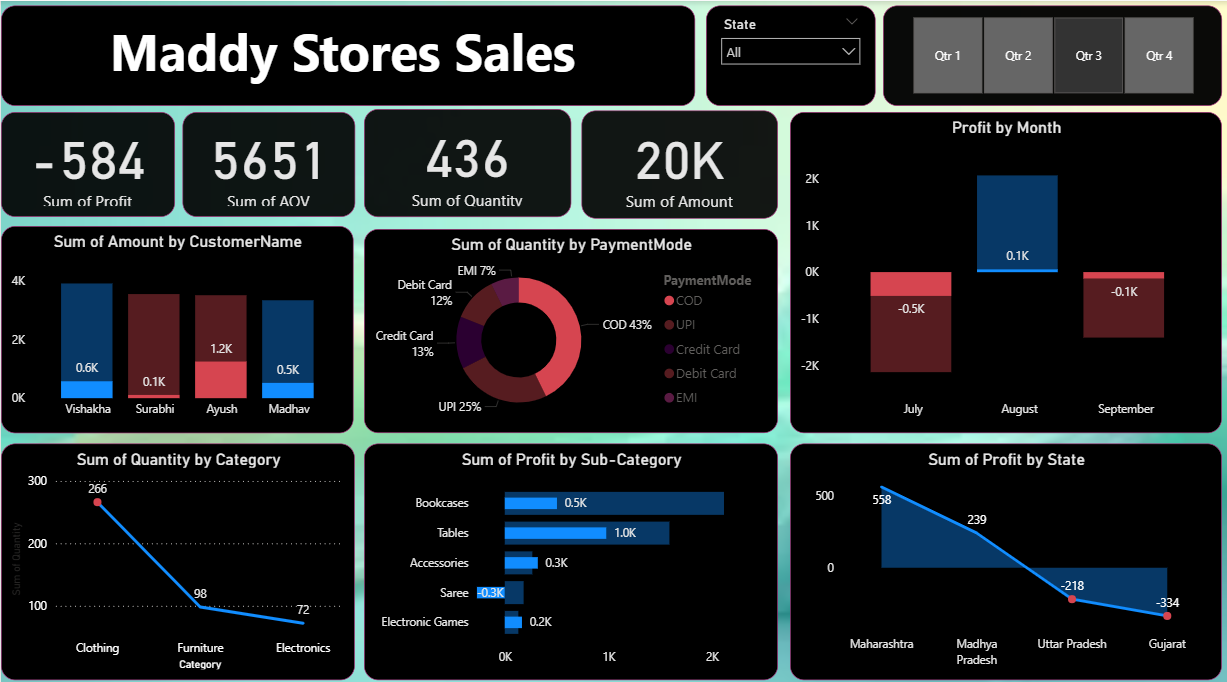

The dashboard page shown, as its layout file describes it:
{"tool":"powerbi","page":{"name":"Page 1","canvas":[1280,720],"ordinal":0},"visuals":[{"type":"textbox","box":[0,4.7,723.7,104.7],"z":0},{"type":"columnChart","title":"Profit by Month","fields":{"Y":["Details.Profit"],"Category":["Orders.Order Date.Variation.Date Hierarchy.Month"]},"box":[822.1,115.7,450.1,334.5],"z":1000},{"type":"barChart","fields":{"Category":["Details.Sub-Category"],"Y":["Details.Profit"]},"box":[378.2,461.1,431.4,247],"z":2000},{"type":"lineChart","fields":{"Category":["Details.Category"],"Y":["Details.Quantity"]},"box":[0,461.1,368.9,247],"z":3000},{"type":"donutChart","fields":{"Y":["Details.Quantity"],"Category":["Details.PaymentMode"]},"box":[378.2,237.6,431.4,212.6],"z":4000},{"type":"card","fields":{"Values":["Details.Amount"]},"box":[604.9,114.1,204.8,112.5],"z":5000},{"type":"card","fields":{"Values":["Details.Quantity"]},"box":[378.2,112.5,215.7,112.5],"z":6000},{"type":"card","fields":{"Values":["Details.Profit"]},"box":[0,115.7,181.3,109.4],"z":7000},{"type":"card","fields":{"Values":["Details.AOV"]},"box":[189.1,115.7,179.7,109.4],"z":8000},{"type":"areaChart","fields":{"Category":["Orders.State"],"Y":["Details.Profit"]},"box":[822.1,461.1,450.1,247],"z":9000},{"type":"columnChart","fields":{"Category":["Orders.CustomerName"],"Y":["Details.Amount"]},"box":[0,234.4,367.3,215.7],"z":10000},{"type":"slicer","fields":{"Values":["Orders.Order Date.Variation.Date Hierarchy.Quarter"]},"box":[919,4.7,353.2,104.7],"z":11000},{"type":"slicer","fields":{"Values":["Orders.State"]},"box":[734.6,4.7,176.6,104.7],"z":12000}]}

Visuals, with their boxes in screenshot pixels (x1, y1, x2, y2), scaled from the page's 1280x720 canvas onto the 1227x682 screenshot:
textbox: (x1=0, y1=4, x2=694, y2=104)
"Profit by Month" columnChart: (x1=788, y1=110, x2=1220, y2=426)
barChart - Details.Sub-Category x Details.Profit: (x1=363, y1=437, x2=776, y2=671)
lineChart - Details.Category x Details.Quantity: (x1=0, y1=437, x2=354, y2=671)
donutChart - Details.Quantity x Details.PaymentMode: (x1=363, y1=225, x2=776, y2=426)
card - Details.Amount: (x1=580, y1=108, x2=776, y2=215)
card - Details.Quantity: (x1=363, y1=107, x2=569, y2=213)
card - Details.Profit: (x1=0, y1=110, x2=174, y2=213)
card - Details.AOV: (x1=181, y1=110, x2=354, y2=213)
areaChart - Orders.State x Details.Profit: (x1=788, y1=437, x2=1220, y2=671)
columnChart - Orders.CustomerName x Details.Amount: (x1=0, y1=222, x2=352, y2=426)
slicer - Orders.Order Date.Variation.Date Hierarchy.Quarter: (x1=881, y1=4, x2=1220, y2=104)
slicer - Orders.State: (x1=704, y1=4, x2=873, y2=104)
